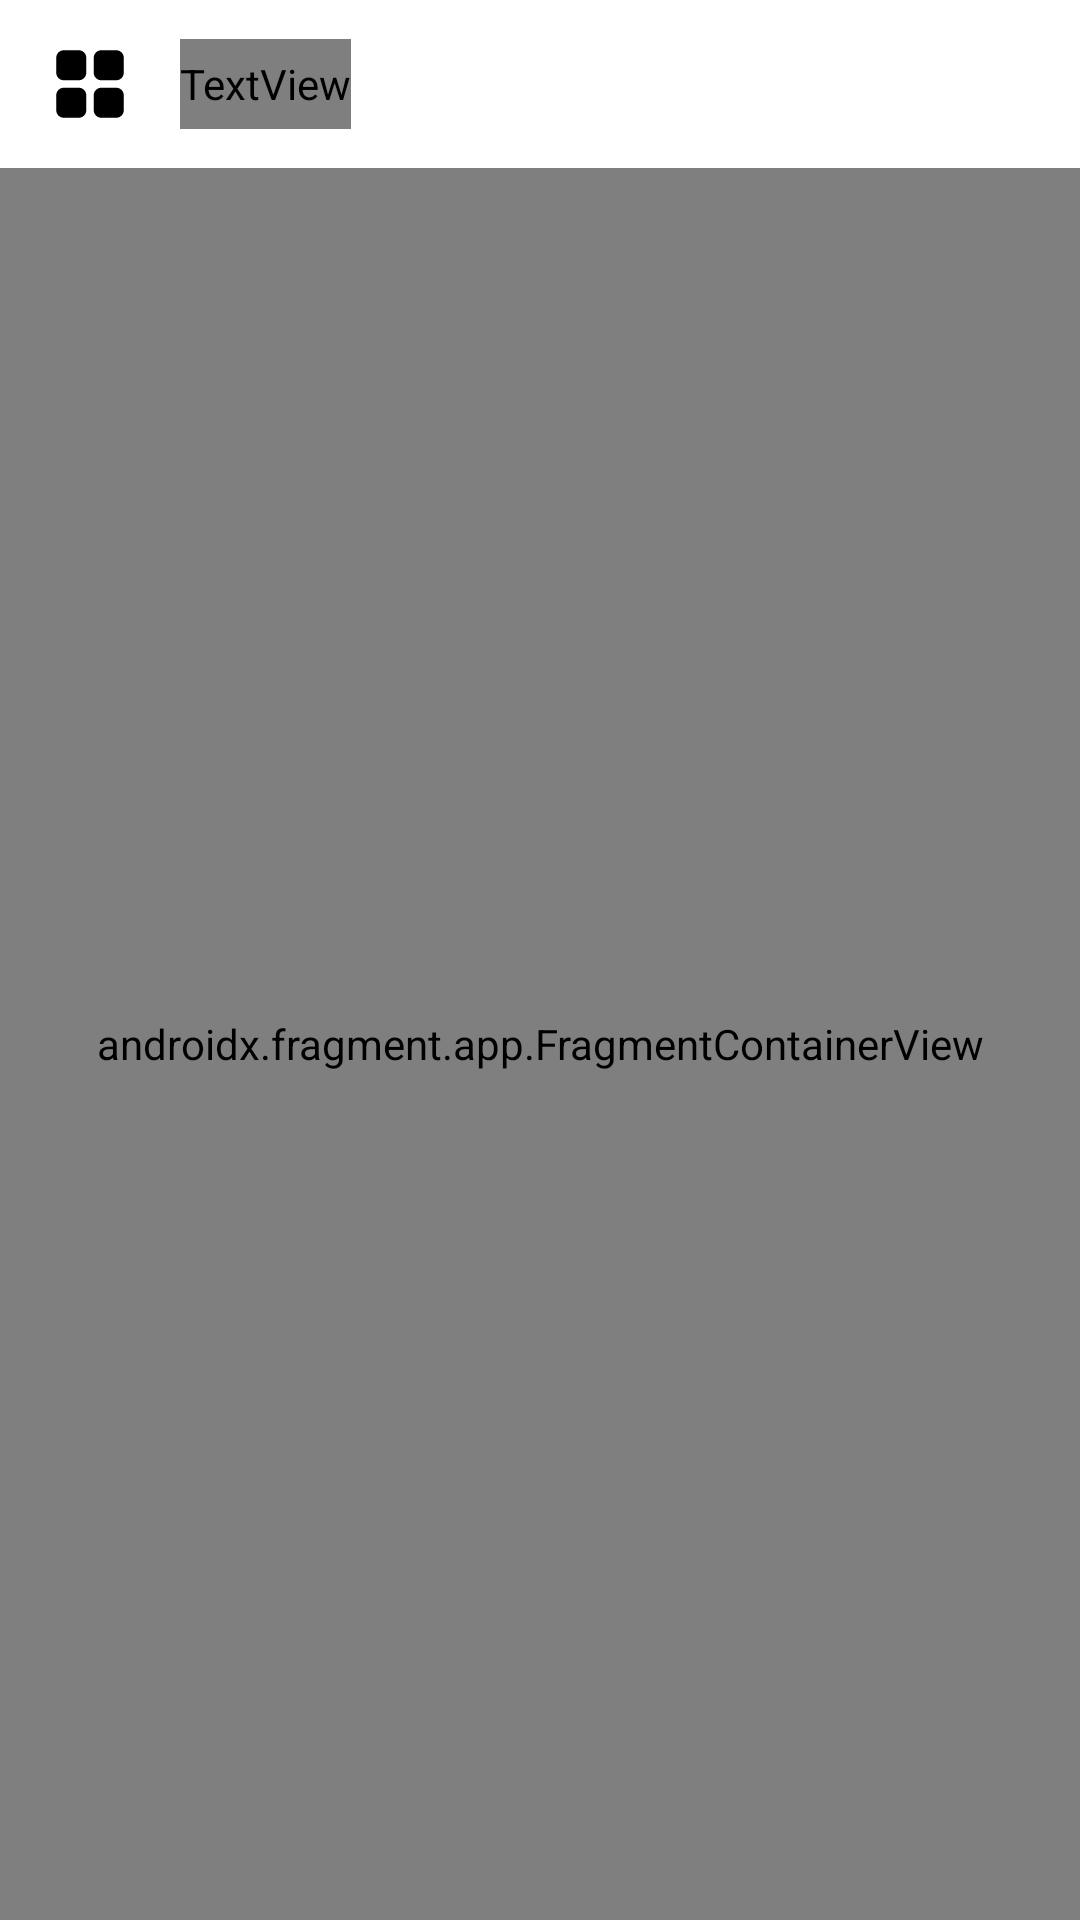

Icons on this 1080 × 1920 Android screen, each with the point to tap as [x,y]:
grid view: [90,84]
